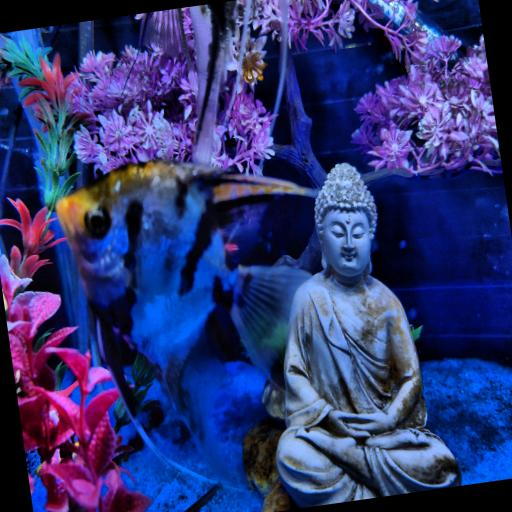Fish: (56, 161, 316, 452), (138, 1, 235, 165), (189, 1, 235, 165)
